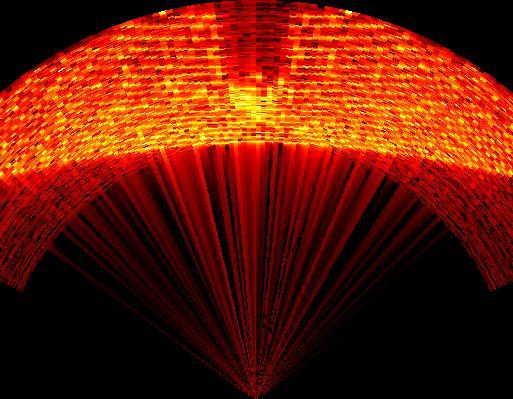box_crate: (216, 5, 301, 106)
